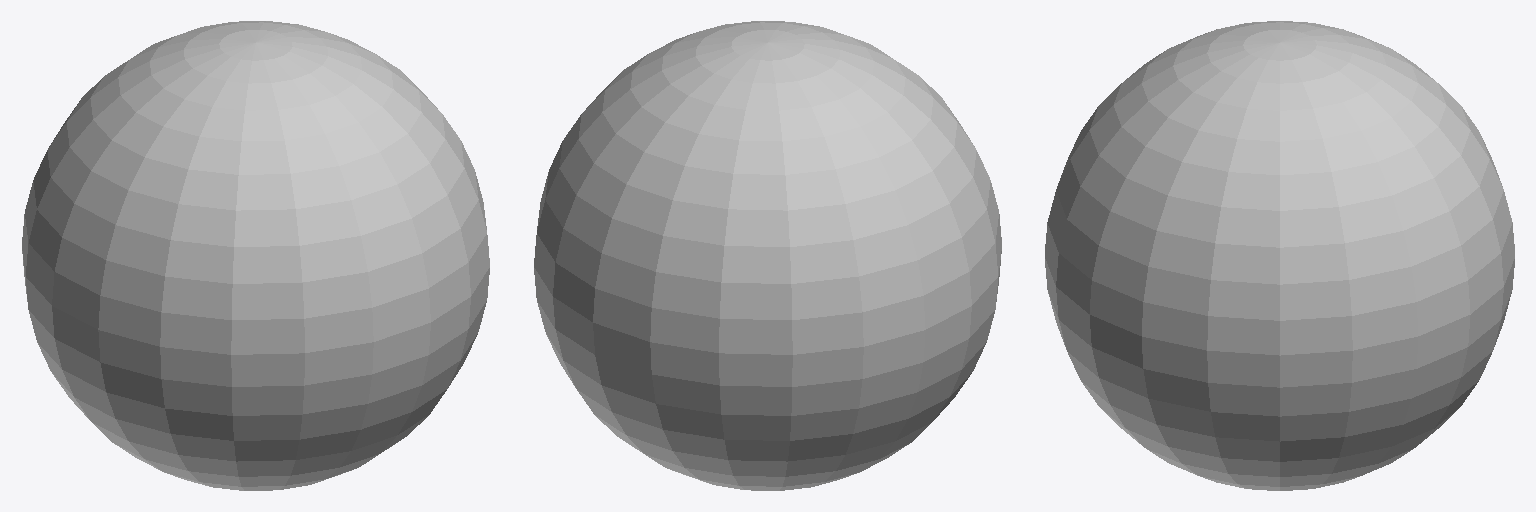
File: Saturn.obj
3 renders of one model, left to right at view 1: azimuth 30°, elevation 25°; view 2: azimuth 150°, elevation 25°; view 3: azimuth 270°, elevation 25°, orthographic.
Parts seen in each view (by area): view 1: atmosphere; view 2: atmosphere; view 3: atmosphere.
Boxes of the visible parts, x1,y1,x2,y2 form: atmosphere: [22, 21, 489, 490]; atmosphere: [534, 21, 1001, 490]; atmosphere: [1045, 21, 1514, 490].
Bounding box in the file's own units: 0.969 × 0.969 × 0.969.